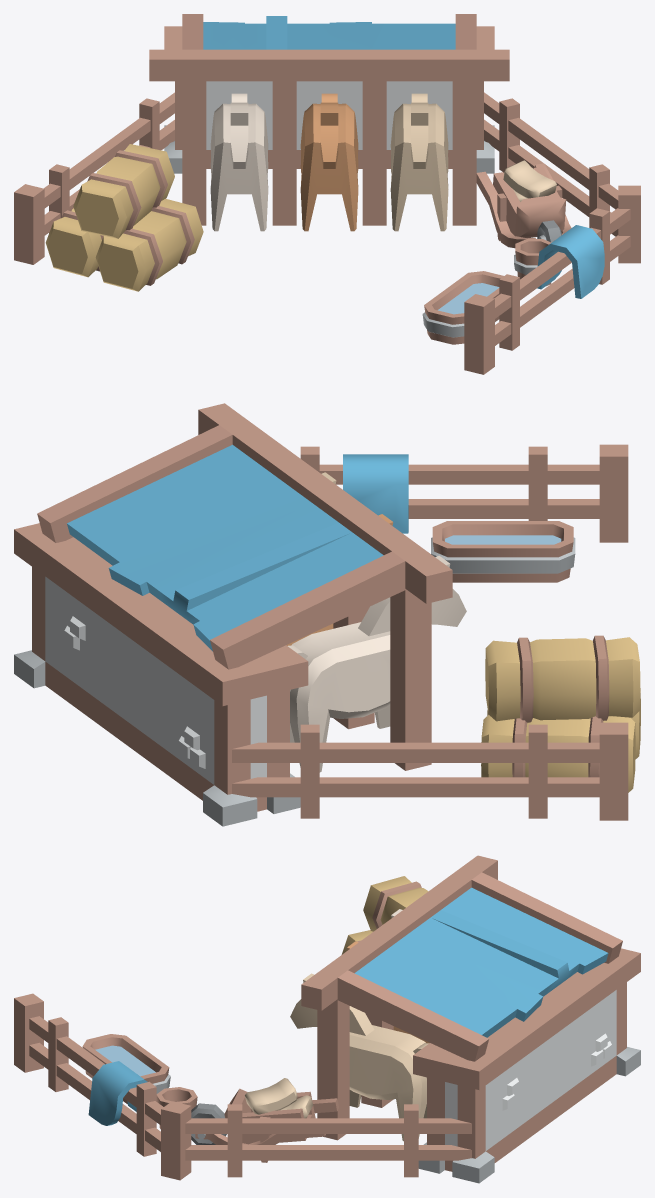
File: stables_part.glb
3 views of the same model, one above another, from view 1: azimuth 30°, elevation 25°; view 2: azimuth 150°, elevation 25°; view 3: azimuth 270°, elevation 25° (orthographic). The views are drawn at different scales.
Parts seen in each view (by area): view 1: X_building_stables_blue; view 2: X_building_stables_blue; view 3: X_building_stables_blue.
Part boxes in pixels (x1,y1,x2,y2): X_building_stables_blue: (14,14,640,374); X_building_stables_blue: (14,403,640,826); X_building_stables_blue: (14,855,640,1183).
Size of the model in its own units: 1.86 by 0.6115 by 2.13.
